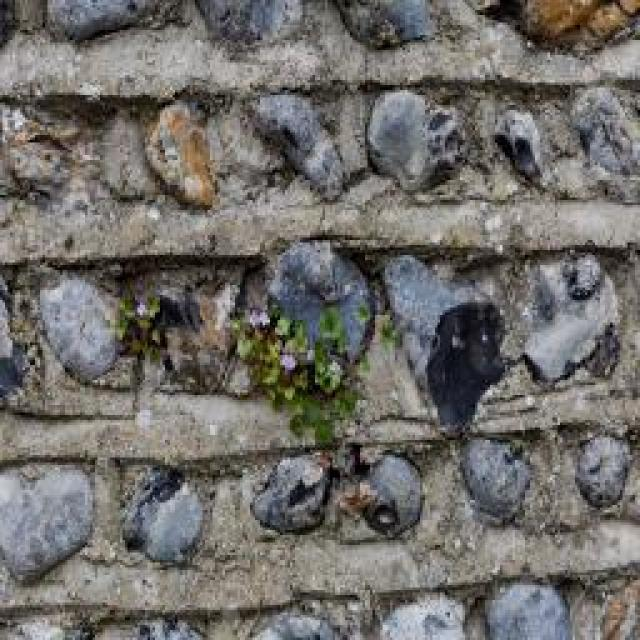crack: (0, 3, 635, 633), (10, 186, 640, 271), (7, 56, 637, 120), (112, 457, 284, 582), (40, 17, 232, 101), (341, 3, 523, 90), (123, 391, 315, 460), (8, 563, 153, 618), (0, 412, 136, 469), (83, 458, 127, 569)
dampness: (375, 82, 640, 207)
vegetation: (3, 102, 119, 217), (151, 267, 250, 390), (364, 90, 468, 191), (252, 91, 351, 196), (206, 101, 296, 190), (229, 303, 313, 396), (191, 0, 298, 46), (333, 0, 435, 48), (113, 287, 177, 362)
